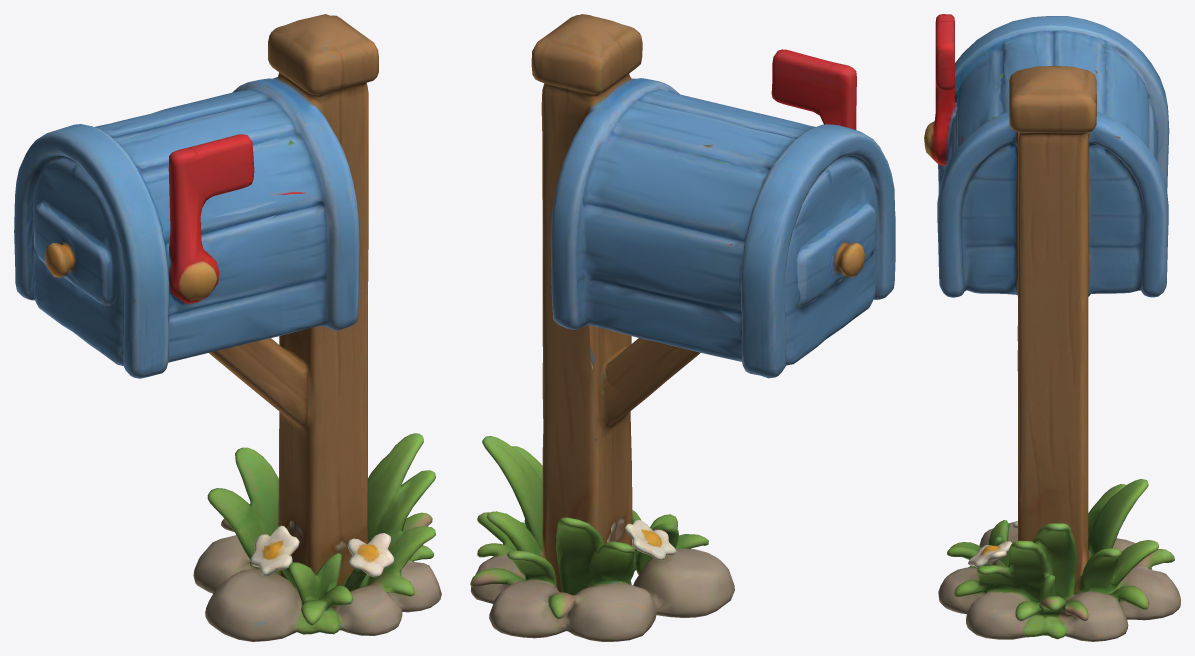
3 renders of one model, left to right at view 1: azimuth 30°, elevation 25°; view 2: azimuth 150°, elevation 25°; view 3: azimuth 270°, elevation 25°, orthographic. The views are drawn at different scales.
Visible parts, largest first — view 1: mailbox; view 2: mailbox; view 3: mailbox.
Part boxes in pixels (x1=…): mailbox: x1=14, y1=14, x2=441, y2=641; mailbox: x1=470, y1=14, x2=895, y2=641; mailbox: x1=924, y1=14, x2=1180, y2=641.
Bounding box in the file's own units: 0.8437 × 1.2 × 0.524.
Materials: 1 (1 with a texture image).
